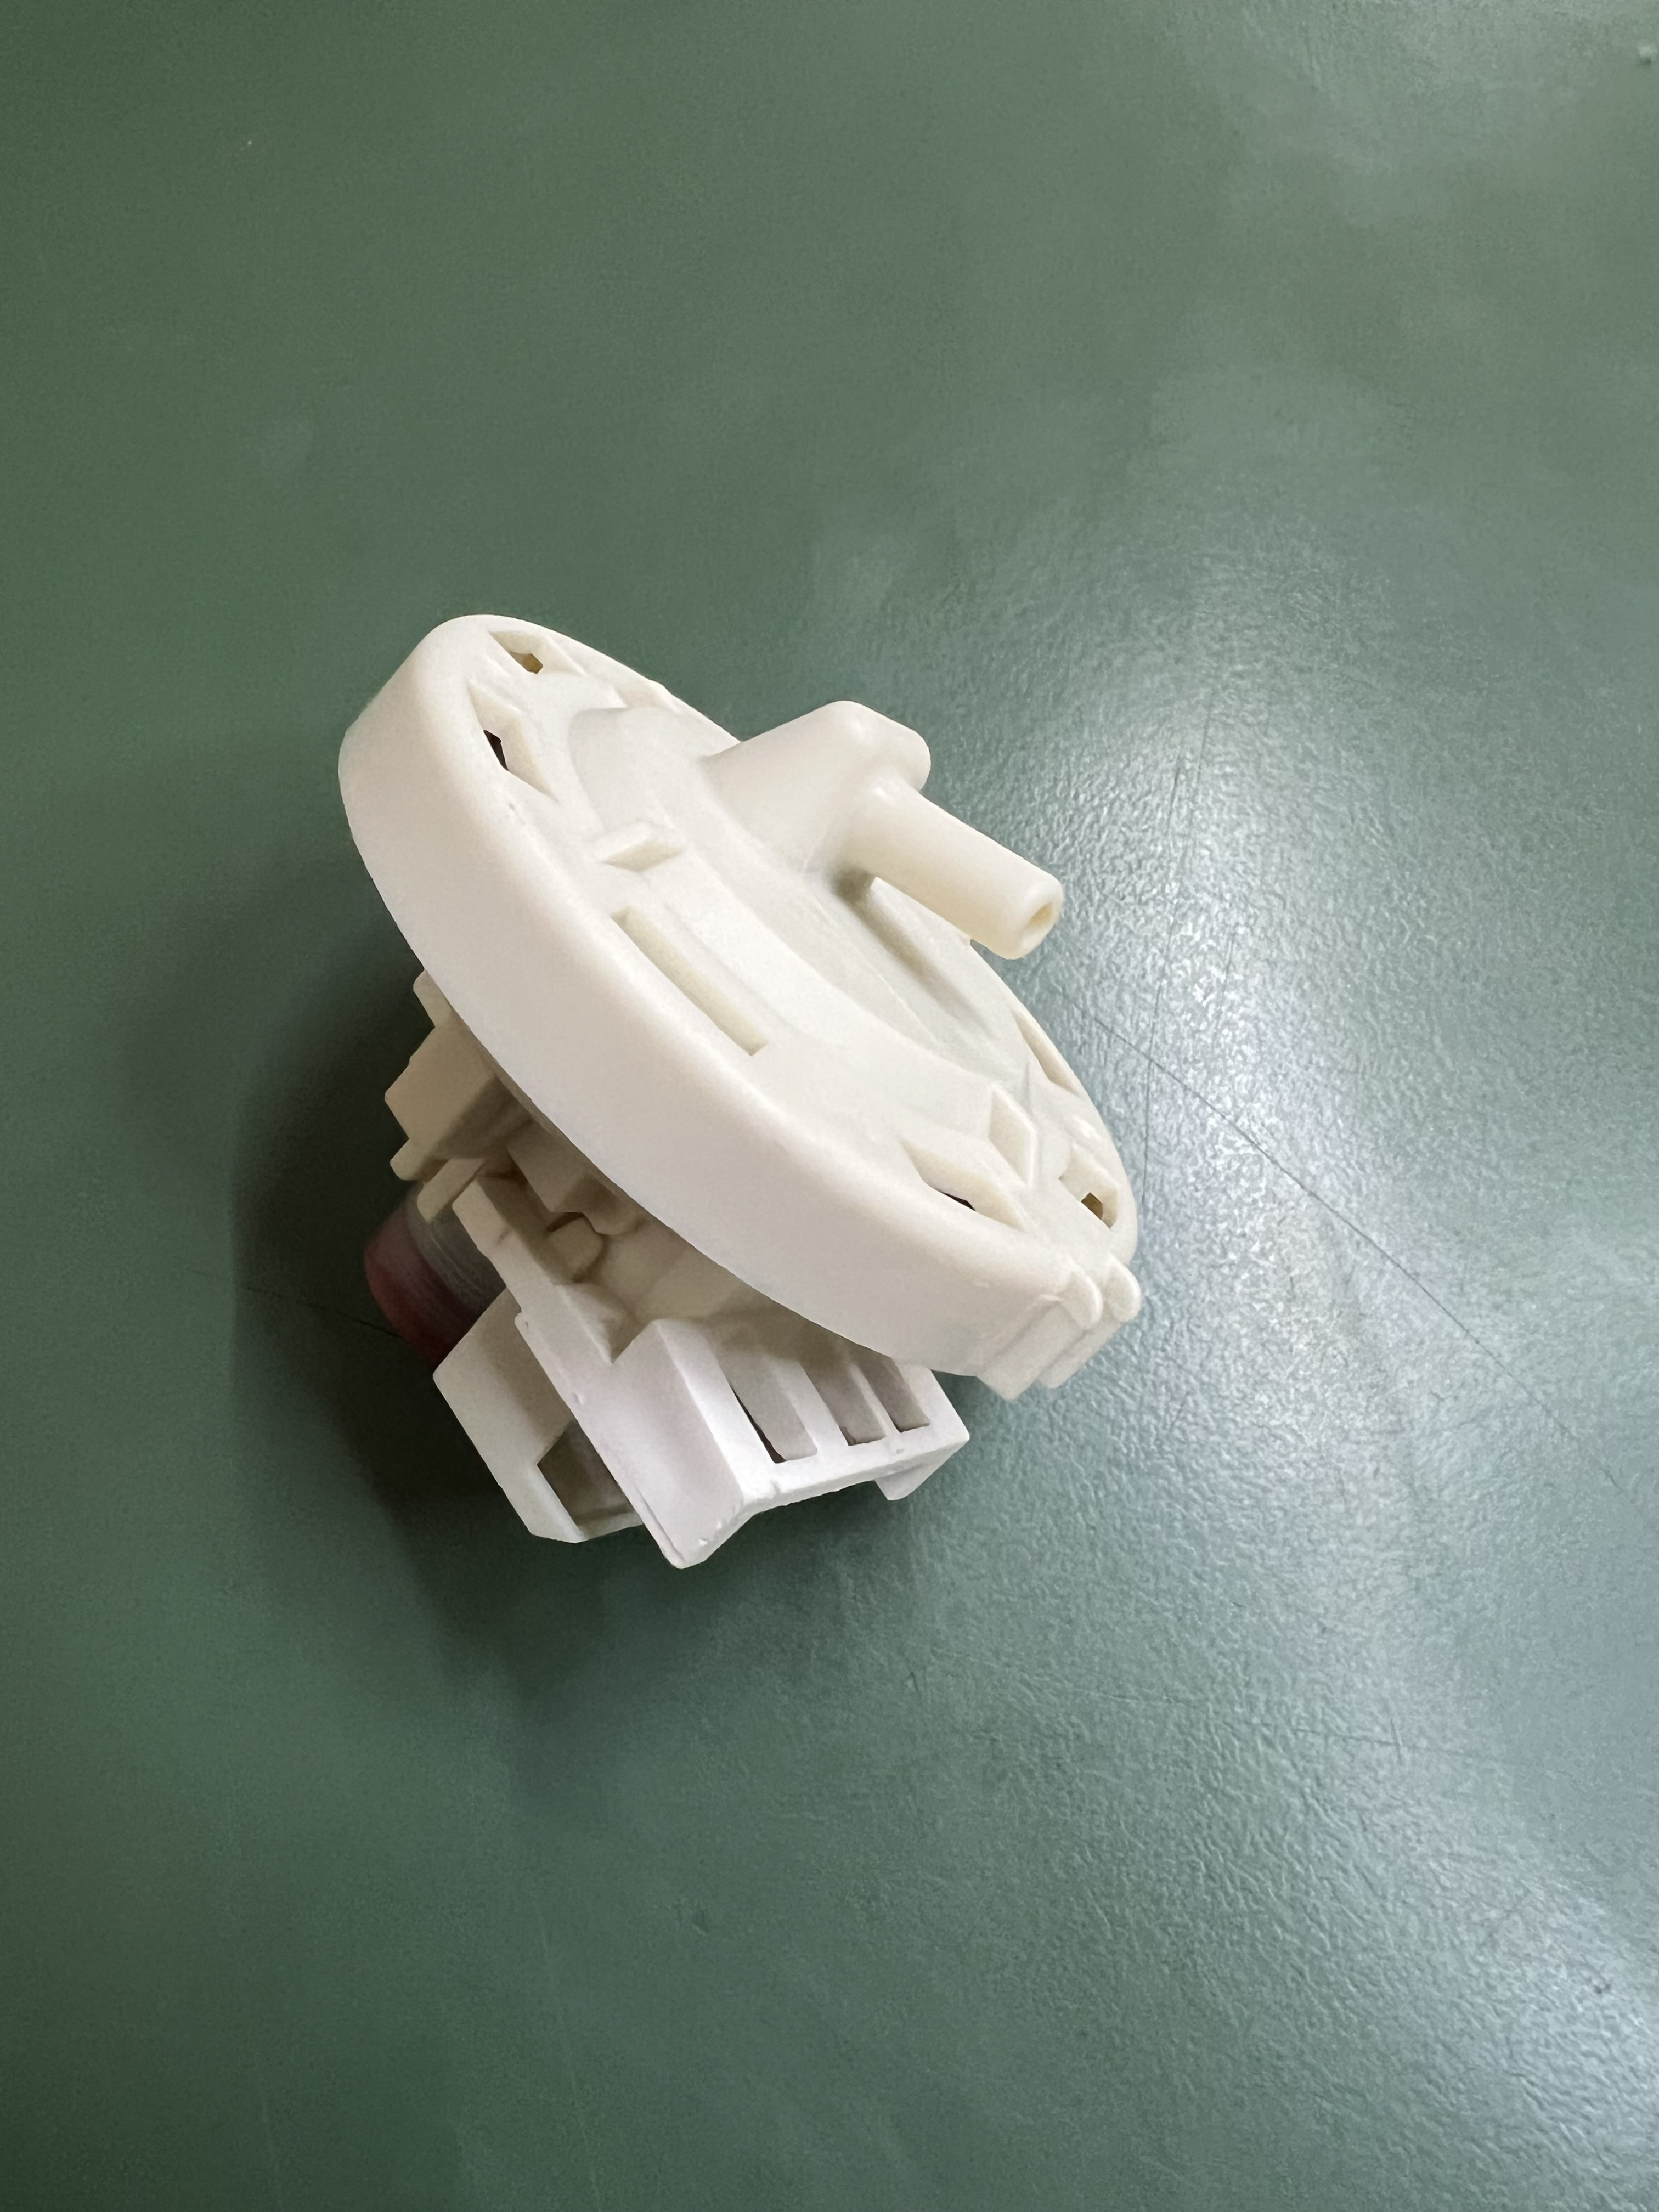pressure_sensor: (240, 577, 1164, 1594)
